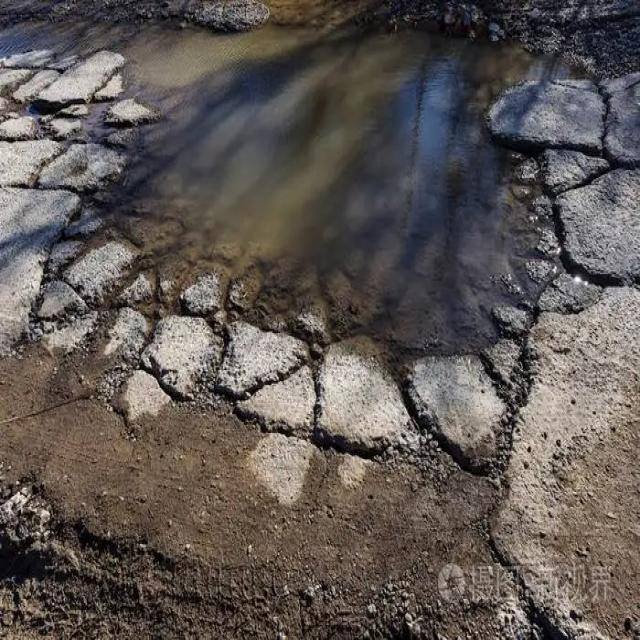Pothole: (40, 12, 586, 356)
